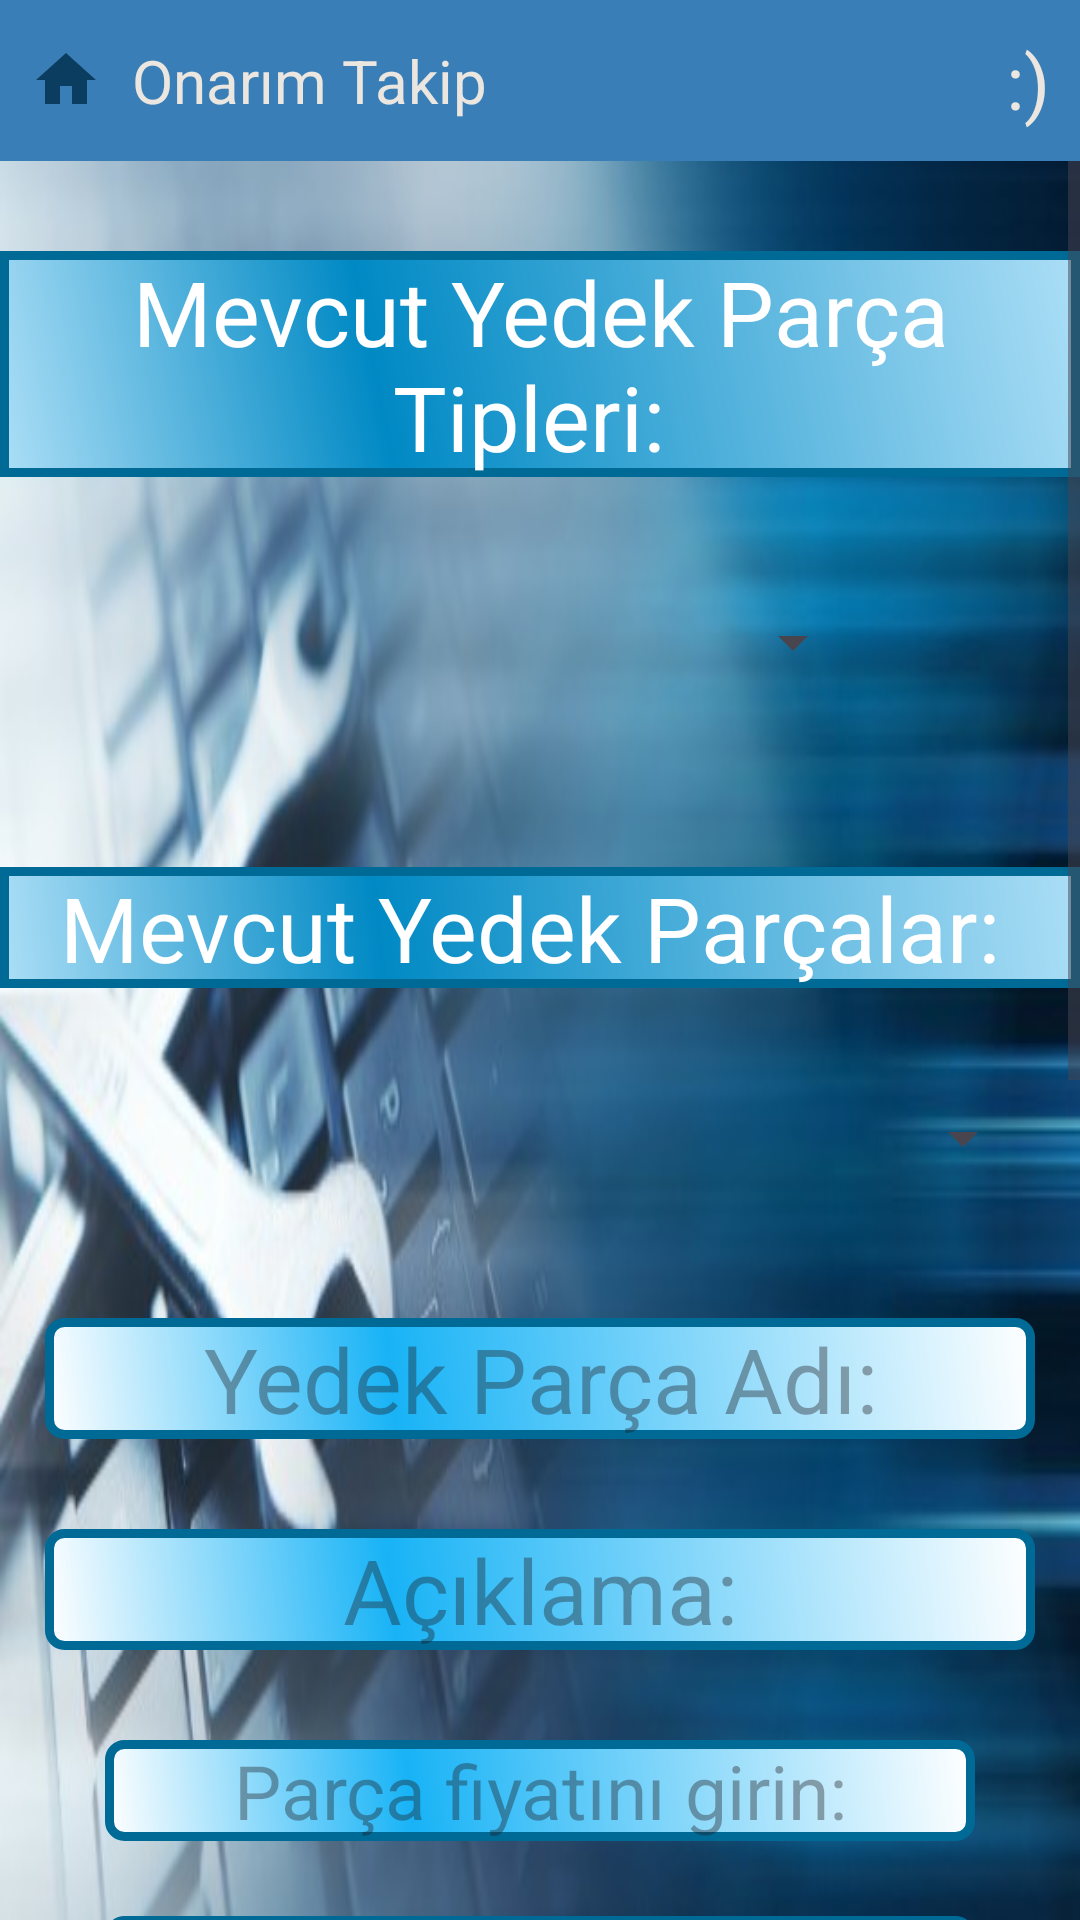

Named icons in this screenshot (1080w x 1920h) and their centers, (x=x, y=y):
home: (x=66, y=78)
